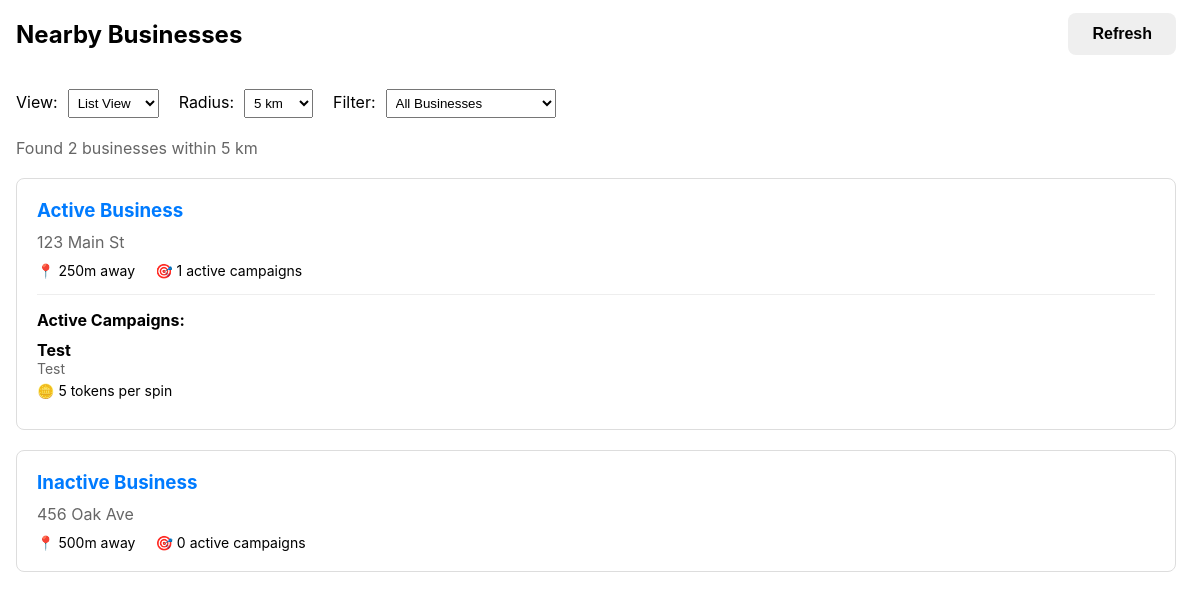
Test case: Business Discovery Integration Tests › Nearby Businesses Flow › filters businesses by active campaigns
Expected: the heading "Active Business" is shown, [37, 199, 183, 222]
Expected: the heading "Inactive Business" is shown, [37, 471, 197, 494]
# Filter by active campaigns
Select "With Active Campaigns" in the dropdown labelled "Filter:" at x=470, y=103, box [386, 89, 556, 118]
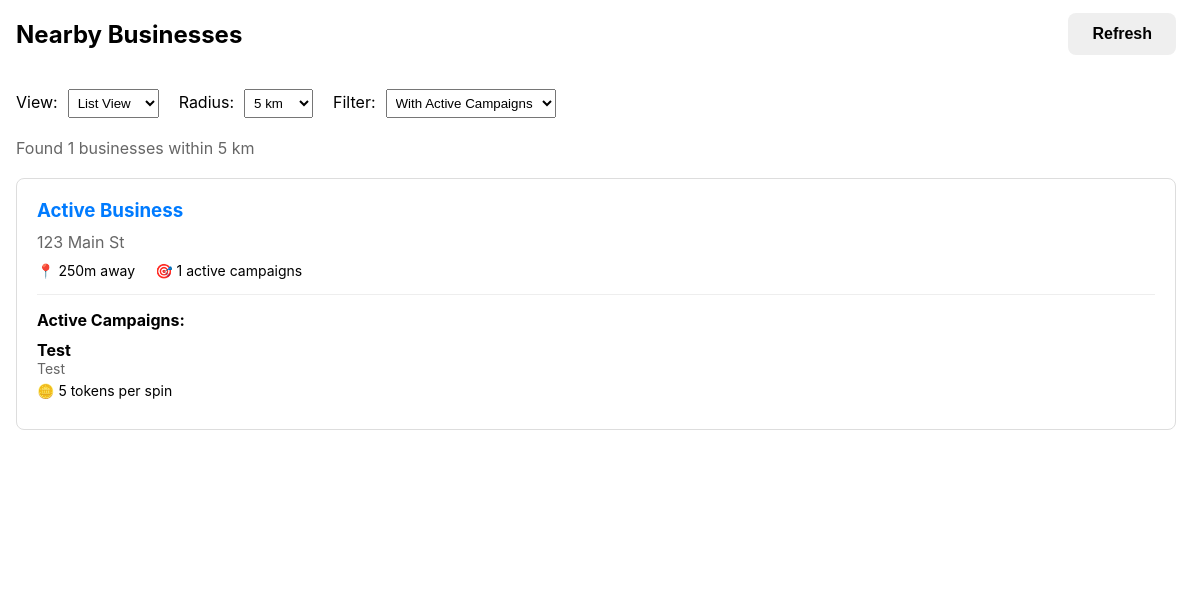
Expected: the heading "Active Business" is shown, [37, 199, 183, 222]
Now the heading "Inactive Business" is gone
Now the text "Found 1 businesses within 5 km" is shown, box [16, 138, 254, 158]
